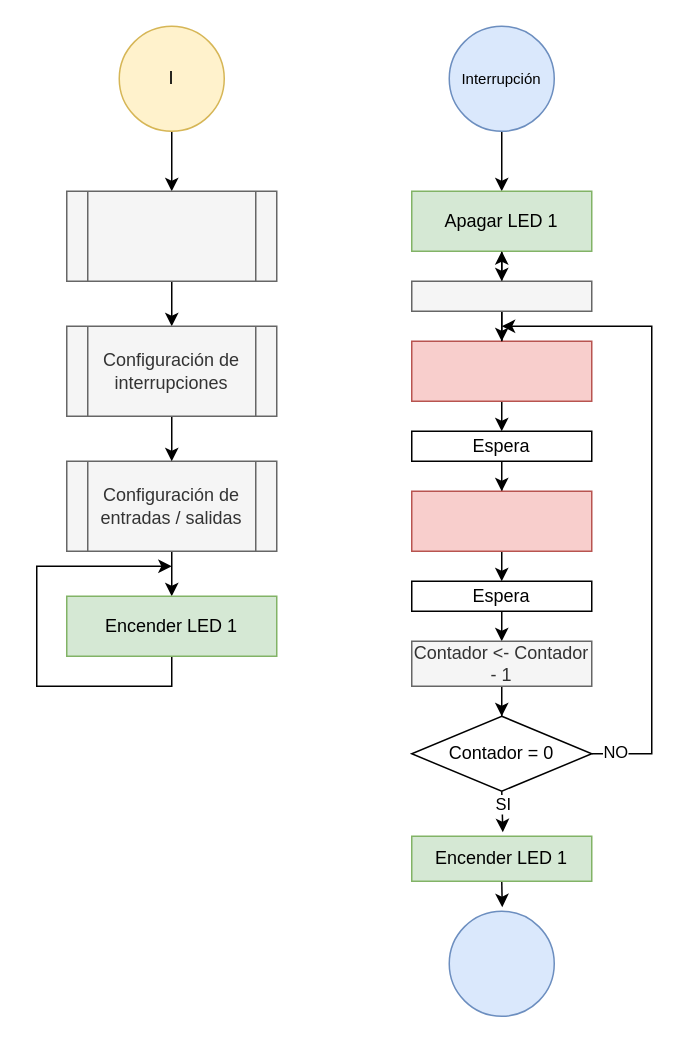
This 690x1043 diagram has some shape labels left out. The box of each missing label's shape, as (x1, y1, x2, y2) in pixels:
Apagar LED 2: (410, 490, 592, 551)
Contador <- 5: (410, 280, 592, 311)
Encender LED 2: (410, 340, 592, 401)
Fin: (448, 910, 554, 1016)
Inicializacion memoria stack: (65, 190, 277, 281)
